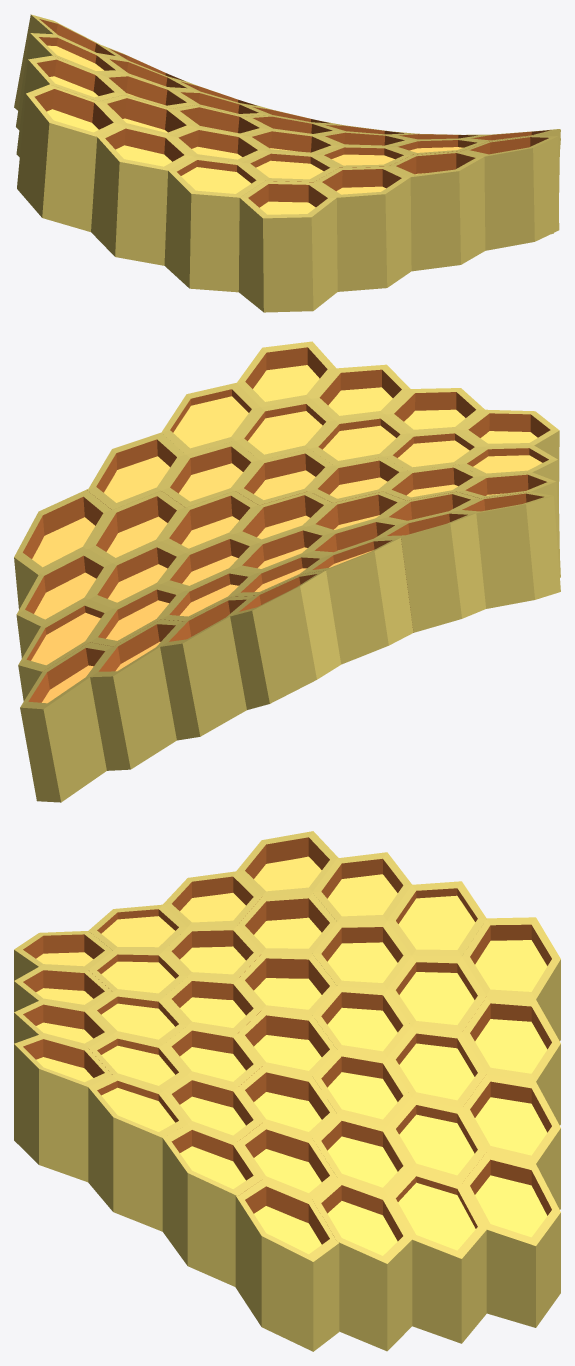
Rendered from Hunajata2.fbx.
3 renders of one model, top to bottom at view 1: azimuth 30°, elevation 25°; view 2: azimuth 150°, elevation 25°; view 3: azimuth 270°, elevation 25°, orthographic.
Parts seen in each view (by area): view 1: Circle; view 2: Circle; view 3: Circle.
Part boxes in pixels (x1=…): Circle: x1=14, y1=14, x2=560, y2=312; Circle: x1=14, y1=341, x2=560, y2=802; Circle: x1=14, y1=831, x2=560, y2=1351.
Size of the model in its own units: 1217 by 687 by 1095.
